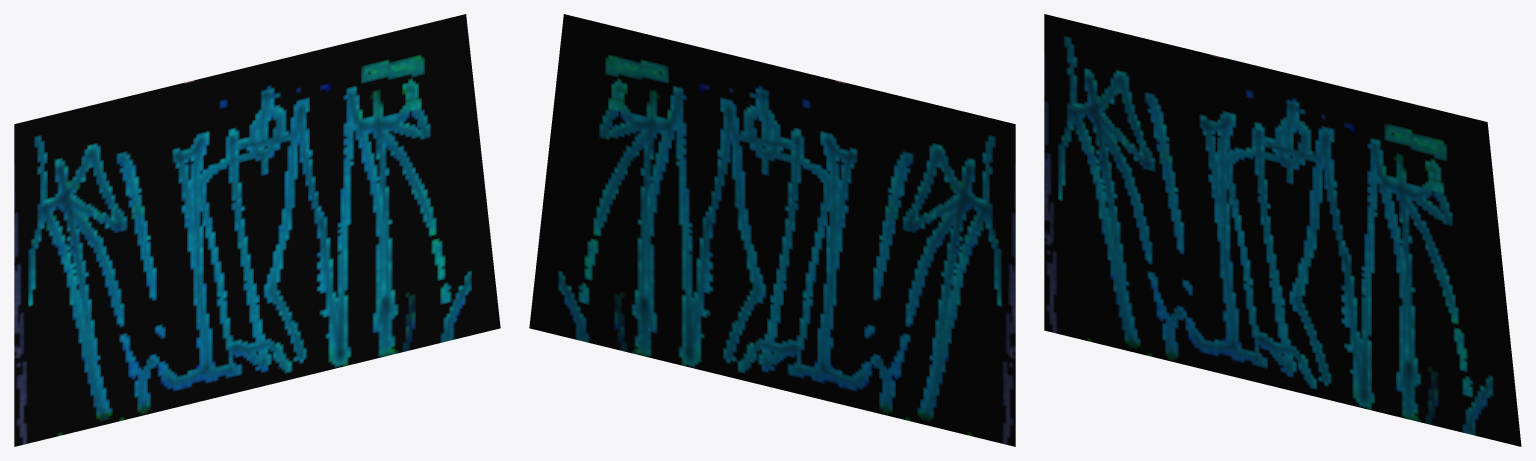
File: lobby_graffiti_2.FBX
3 renders of one model, left to right at view 1: azimuth 30°, elevation 25°; view 2: azimuth 150°, elevation 25°; view 3: azimuth 330°, elevation 25°, orthographic.
Parts seen in each view (by area): view 1: lobby_graffiti_2; view 2: lobby_graffiti_2; view 3: lobby_graffiti_2.
Boxes of the visible parts, <box> form: lobby_graffiti_2: <box>14,14,500,446</box>; lobby_graffiti_2: <box>529,14,1015,446</box>; lobby_graffiti_2: <box>1044,14,1521,446</box>.
Size of the model in its own units: 72.23 by 45.81 by 1.53e-05.
